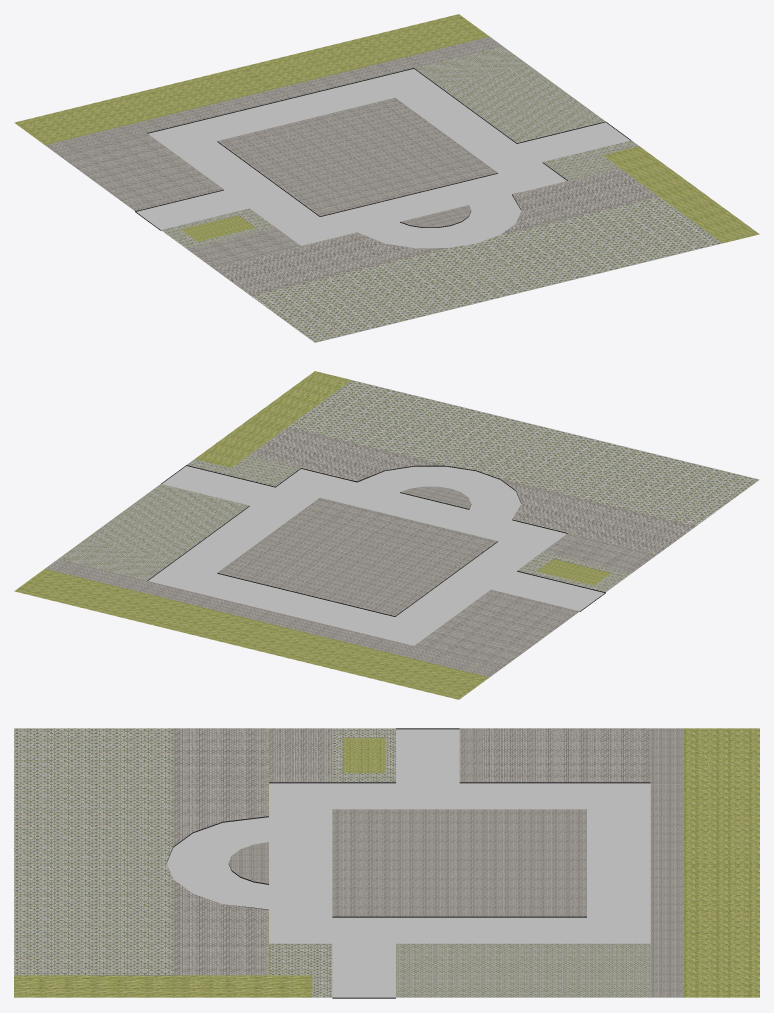
File: fix san tolet.fbx
3 renders of one model, top to bottom at view 1: azimuth 30°, elevation 25°; view 2: azimuth 150°, elevation 25°; view 3: azimuth 270°, elevation 25°, orthographic. The views are drawn at different scales.
Parts seen in each view (by area): view 1: pPlane2; view 2: pPlane2; view 3: pPlane2.
Part boxes in pixels (x1,y1,x2,y2): pPlane2: [14, 14, 759, 342]; pPlane2: [14, 371, 759, 699]; pPlane2: [14, 728, 759, 998].
Size of the model in its own units: 2385 by 5.42 by 2794.
